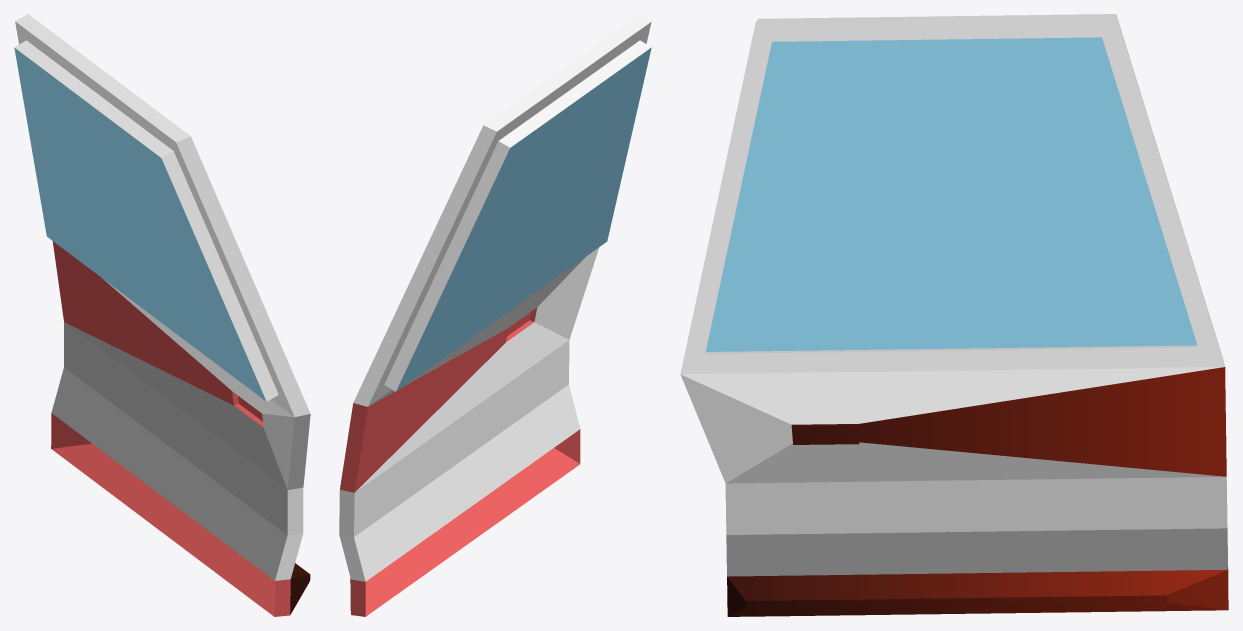
Rendered from porta dir.fbx.
3 renders of one model, left to right at view 1: azimuth 30°, elevation 25°; view 2: azimuth 150°, elevation 25°; view 3: azimuth 270°, elevation 25°, orthographic. The views are drawn at different scales.
Visible parts, largest first — view 1: porta dir; view 2: porta dir; view 3: porta dir.
Part boxes in pixels (left/top/right/bottom): porta dir: left=14, top=14, right=310, bottom=616; porta dir: left=339, top=14, right=651, bottom=616; porta dir: left=680, top=14, right=1228, bottom=616.
Size of the model in its own units: 28.06 by 97.12 by 87.4.
